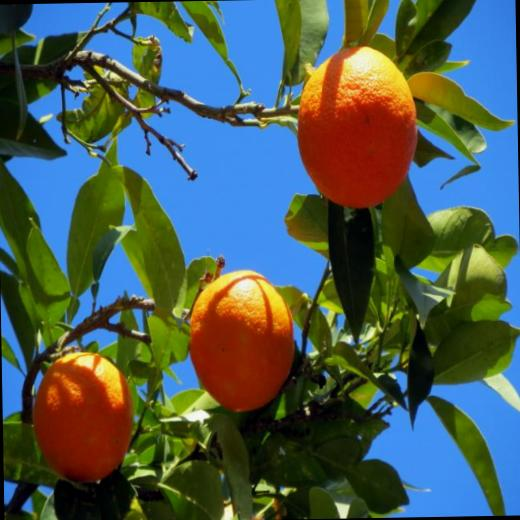Grape: (296, 44, 420, 210), (297, 45, 419, 210), (187, 268, 296, 413), (187, 269, 295, 414), (30, 350, 134, 486), (32, 352, 133, 482)
